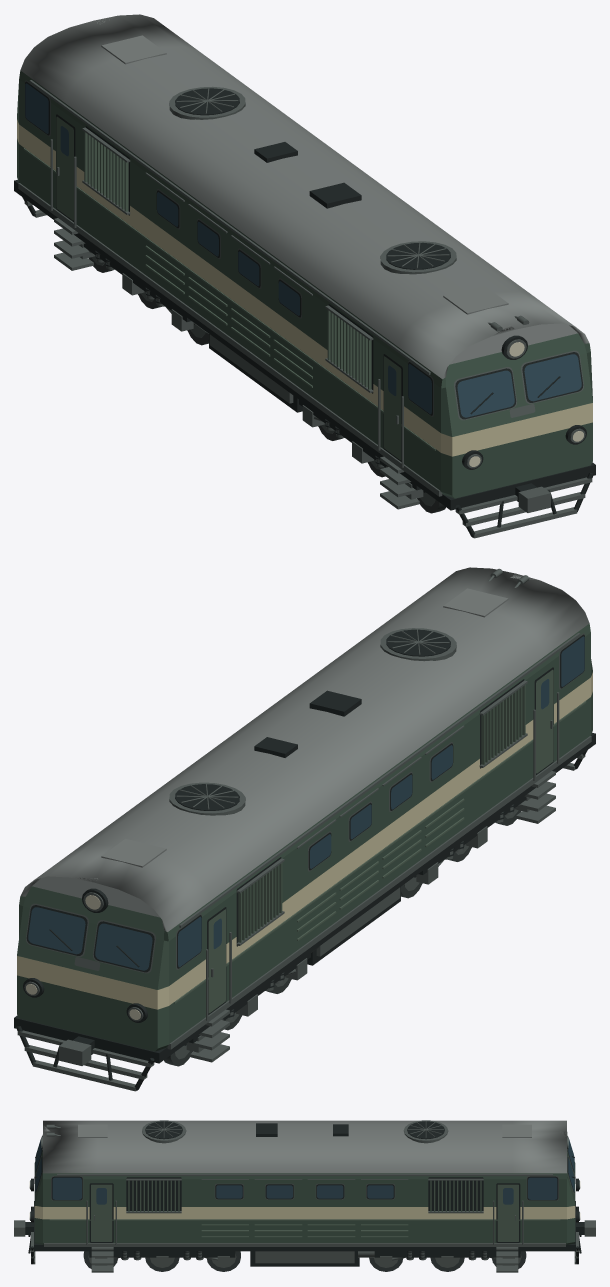
File: m62_locomotive.glb
3 renders of one model, top to bottom at view 1: azimuth 30°, elevation 25°; view 2: azimuth 150°, elevation 25°; view 3: azimuth 270°, elevation 25°, orthographic. The views are drawn at different scales.
Parts seen in each view (by area): view 1: M62_Locomotive.001; view 2: M62_Locomotive.001; view 3: M62_Locomotive.001.
Part boxes in pixels (box(x1,y1,x2,y2)): M62_Locomotive.001: box(14, 14, 595, 538); M62_Locomotive.001: box(14, 567, 595, 1091); M62_Locomotive.001: box(14, 1120, 595, 1272).
Size of the model in its own units: 3.54 by 4.49 by 18.18.
